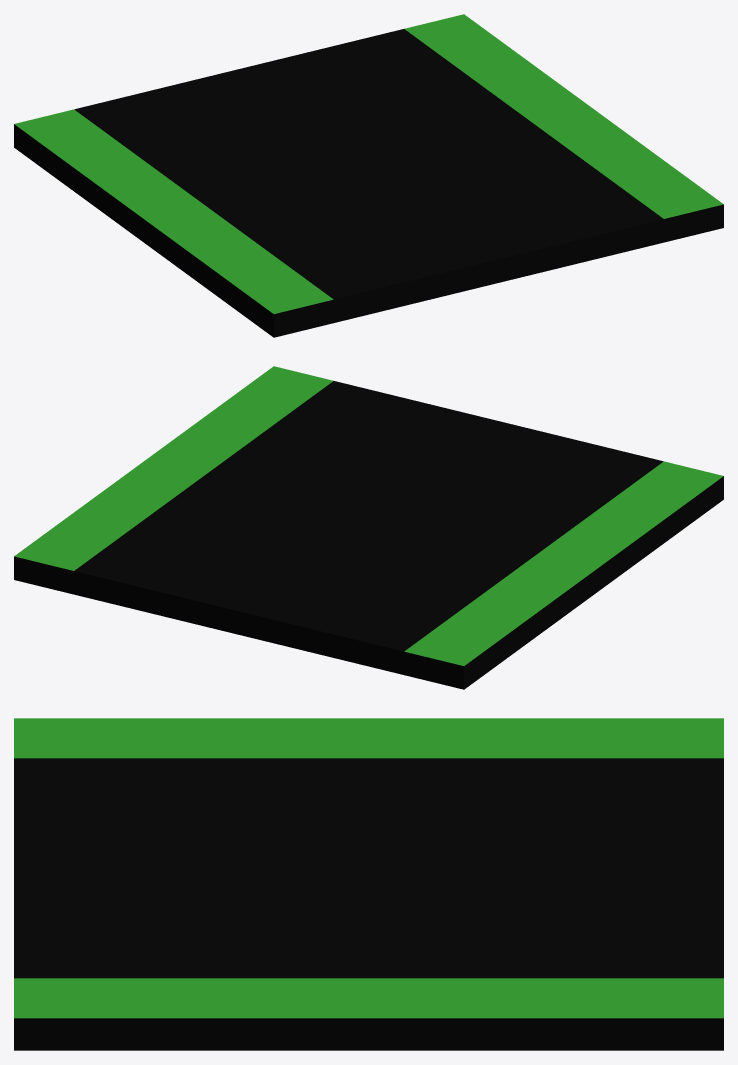
The model's file is Road.fbx.
3 renders of one model, top to bottom at view 1: azimuth 30°, elevation 25°; view 2: azimuth 150°, elevation 25°; view 3: azimuth 270°, elevation 25°, orthographic. The views are drawn at different scales.
Parts seen in each view (by area): view 1: Cube.001; view 2: Cube.001; view 3: Cube.001.
Boxes of the visible parts, left/top/right/bottom form: Cube.001: left=14, top=14, right=723, bottom=337; Cube.001: left=14, top=366, right=723, bottom=689; Cube.001: left=14, top=718, right=723, bottom=1050.
Size of the model in its own units: 200 by 10 by 200.
